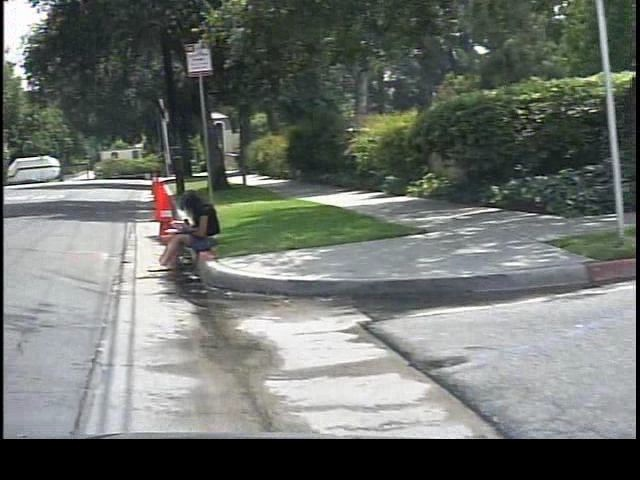person: (139, 183, 219, 275)
